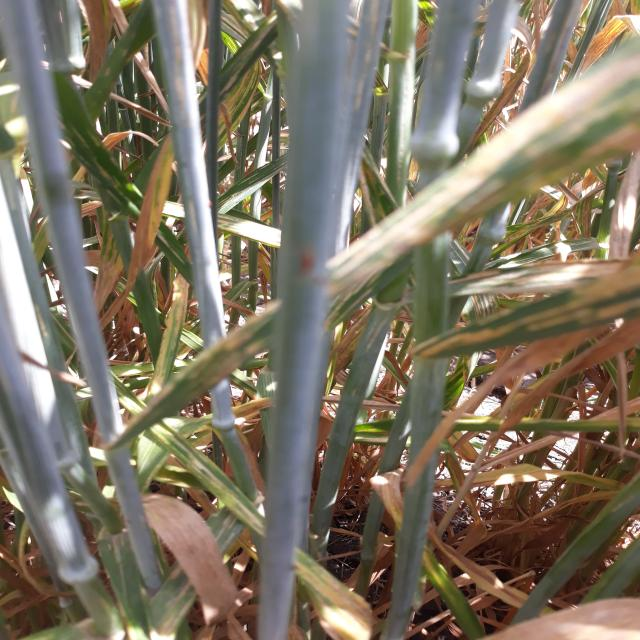black_stem_rust: (225, 20, 370, 640)
